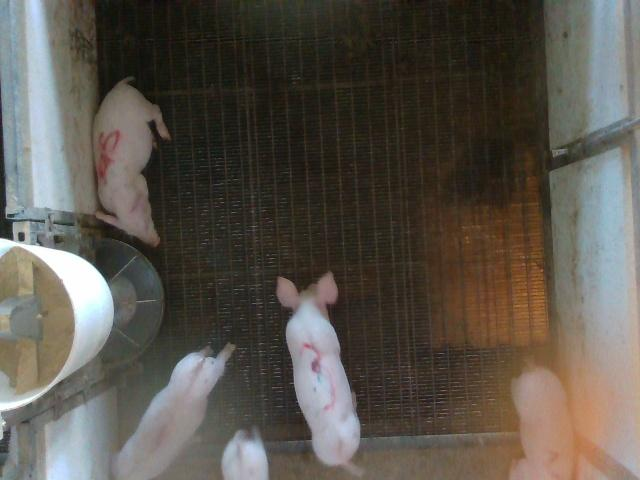pig-1: (112, 345, 234, 479)
pig-2: (510, 368, 574, 478)
pig-3: (276, 272, 360, 471)
pig-5: (94, 78, 170, 246)
